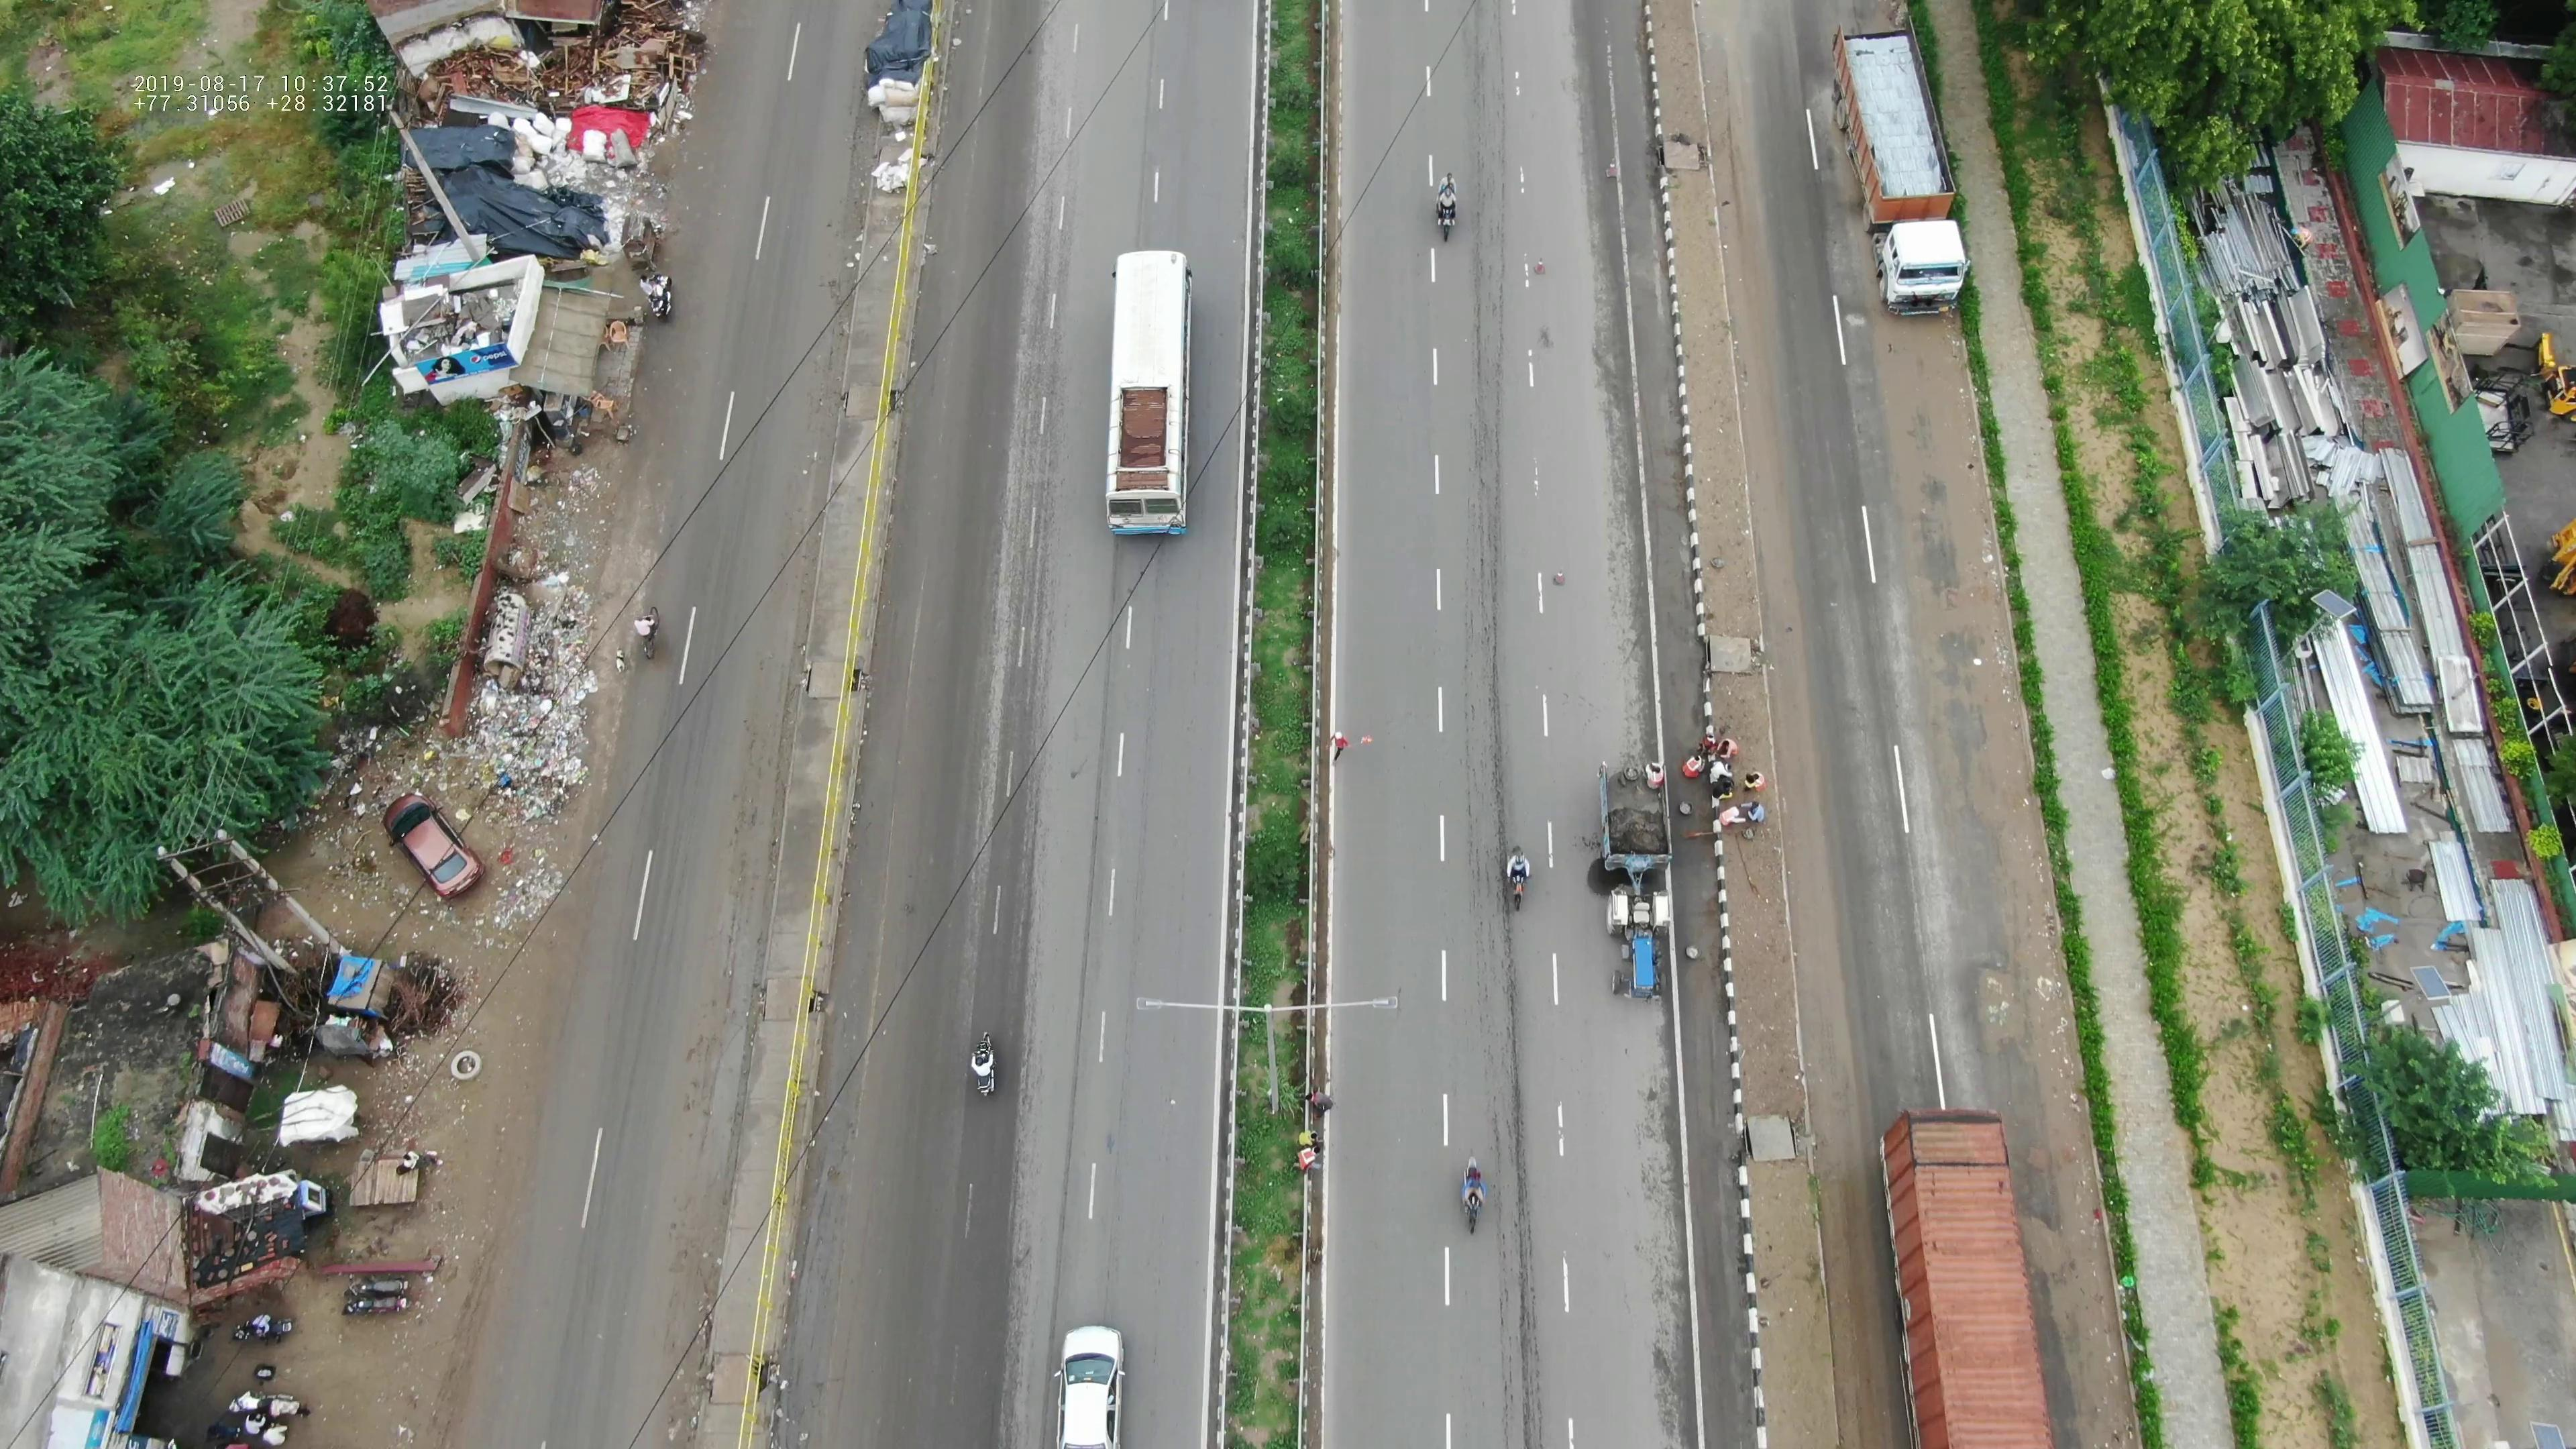Muddy_road: (1921, 573, 2051, 888), (1870, 320, 1996, 557), (667, 950, 750, 1249), (2019, 938, 2104, 1189), (711, 667, 793, 897), (2059, 1269, 2144, 1440)
Ravelling: (1431, 487, 1530, 837), (1456, 886, 1546, 1131), (1488, 1143, 1552, 1433), (1463, 149, 1516, 464), (1445, 0, 1525, 149)
Road_side_garbage: (462, 561, 603, 892)
